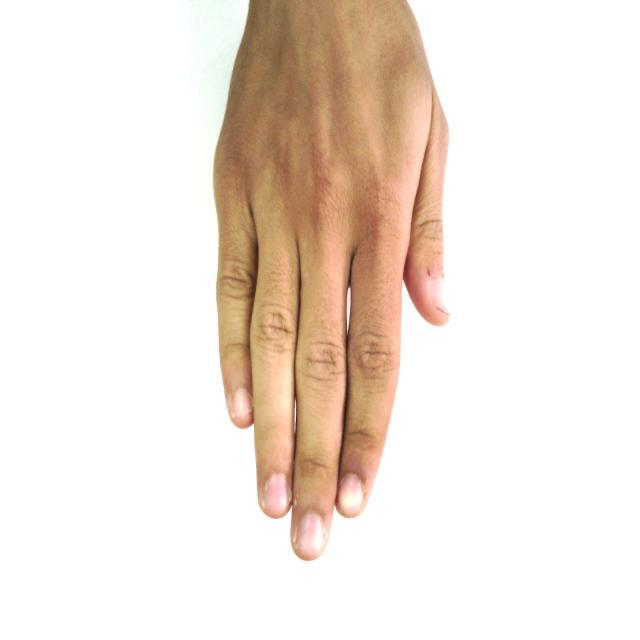Fingernail: (296, 511, 323, 552), (338, 474, 363, 514), (264, 474, 288, 511), (430, 280, 448, 314), (233, 389, 252, 416)
